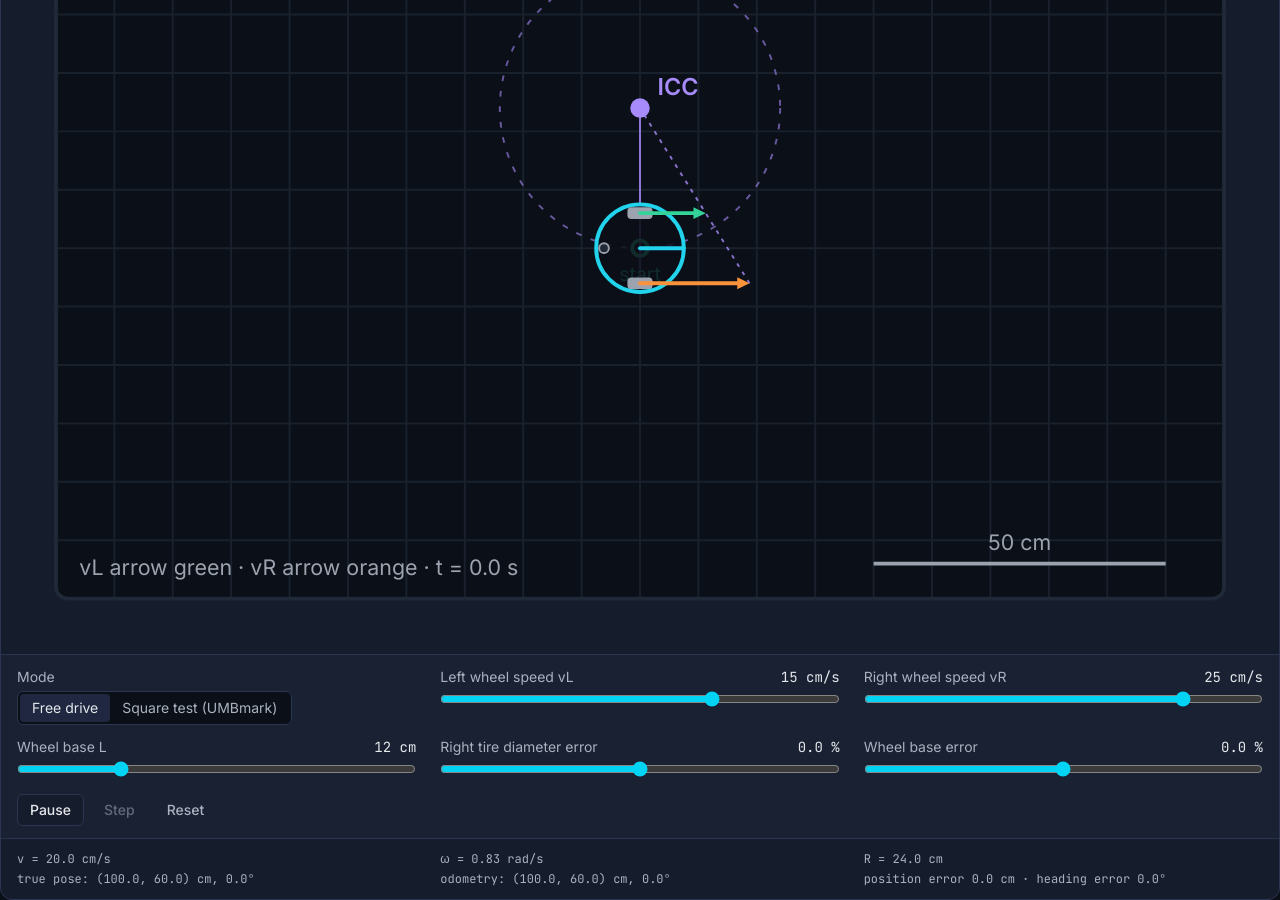
it: DiffDriveKinematics › switches to the square calibration test
(page scrolled)
Click the radio button labelled "Square test (UMBmark)". click: (200, 708)
box: [110,694,289,722]
(page scrolled)
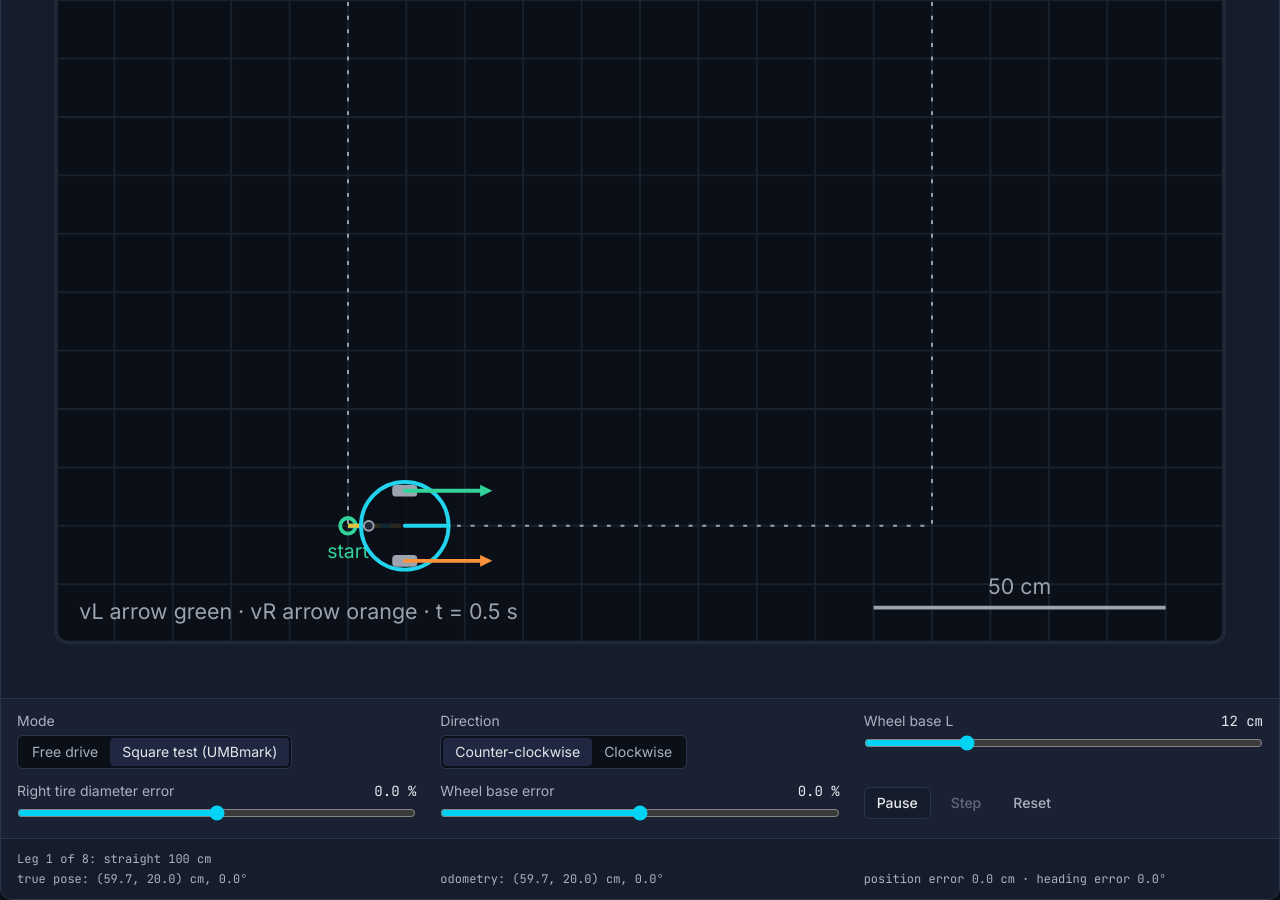
Now the text "Leg 1 of 8: straight 100 cm" is shown, box [17,851,211,867]
